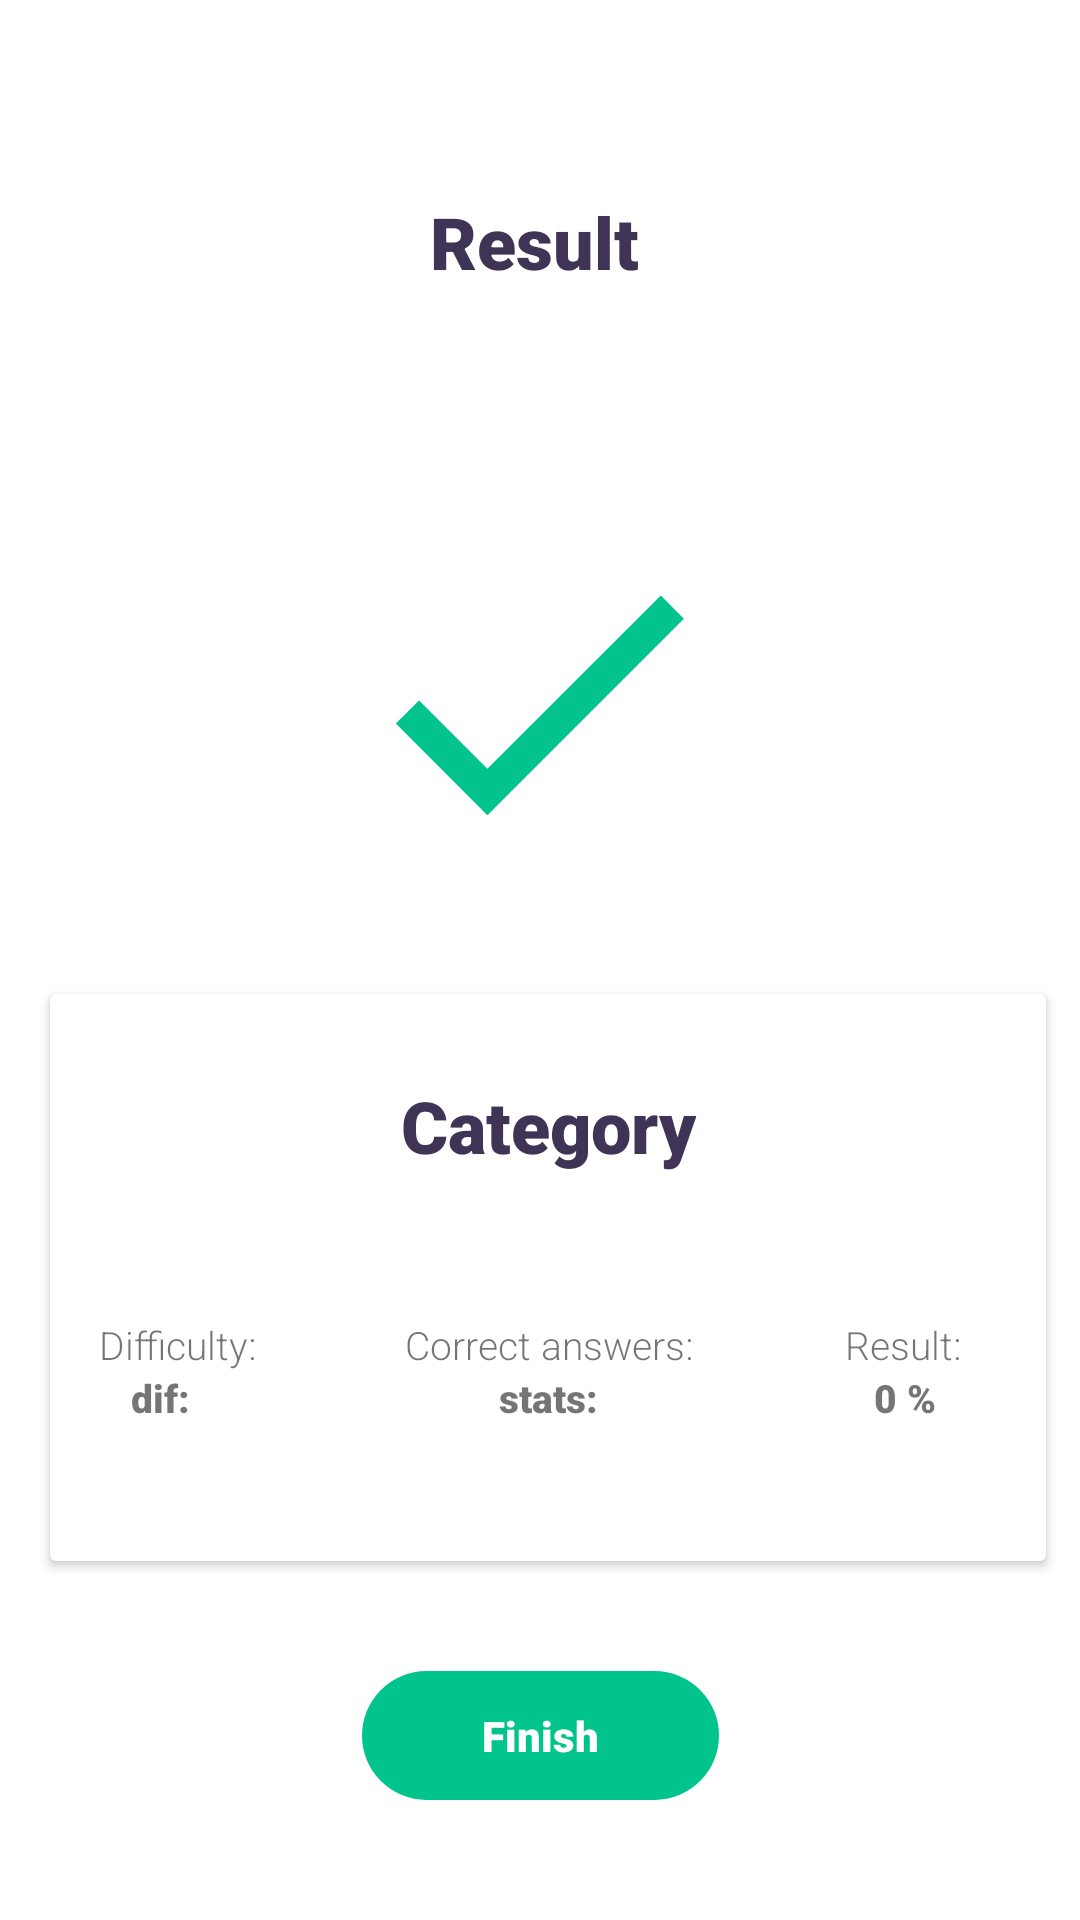

Named icons in this screenshot (1080 × 1920) and their bounding boxes, (x1, y1, x2, y2):
check: (396, 595, 684, 815)
